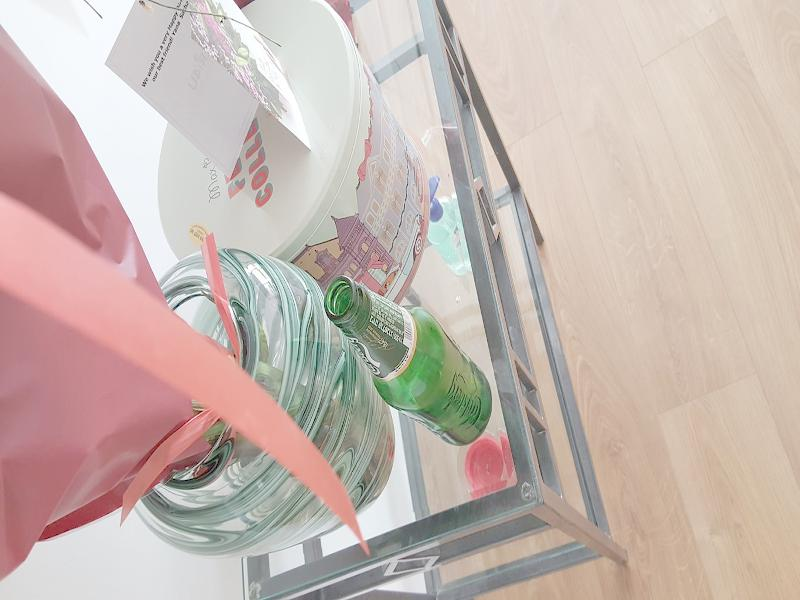Beer: (325, 277, 491, 448)
